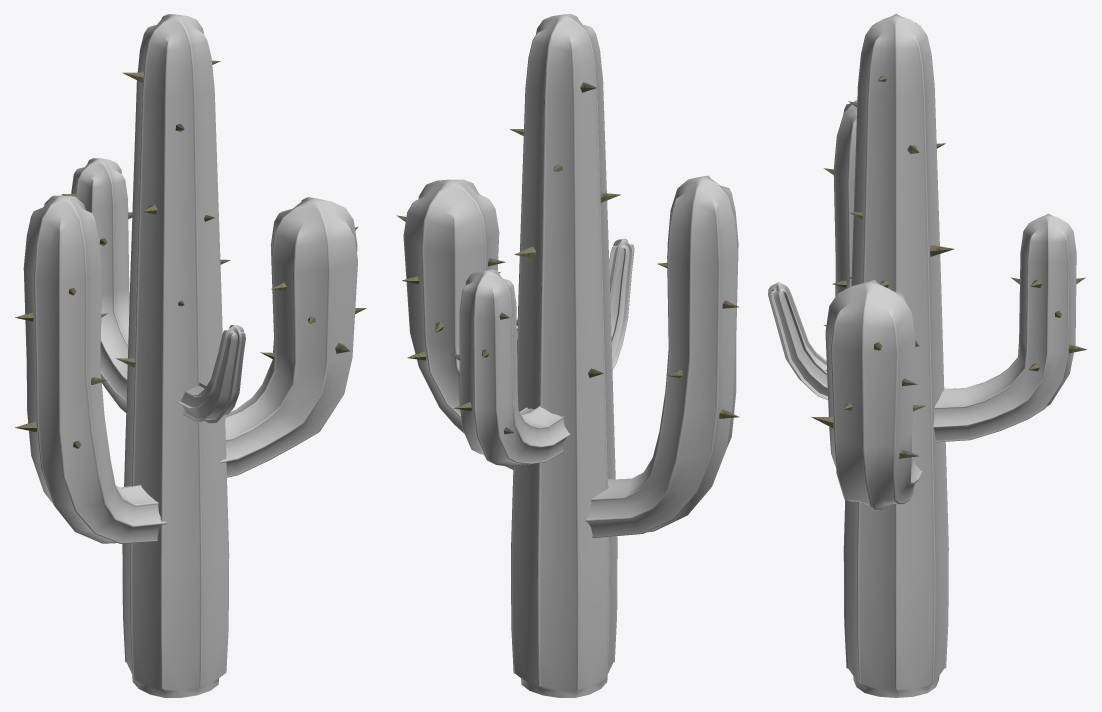
Rendered from Cactus_Saguaro_Green.fbx.
3 views of the same model, side by side, from view 1: azimuth 30°, elevation 25°; view 2: azimuth 150°, elevation 25°; view 3: azimuth 270°, elevation 25° (orthographic).
Visible parts, largest first — view 1: Trunk_Main, Stem_4, Stem_1, Stem_3, Stem_2; view 2: Trunk_Main, Stem_4, Stem_1, Stem_3, Stem_2; view 3: Trunk_Main, Stem_1, Stem_3, Stem_4, Stem_2.
Part boxes in pixels (box(x1,y1,x2,y2)): Trunk_Main: box(122, 14, 229, 697); Stem_4: box(23, 195, 167, 543); Stem_1: box(220, 197, 357, 477); Stem_3: box(71, 158, 129, 412); Stem_2: box(177, 325, 245, 423); Trunk_Main: box(511, 14, 617, 697); Stem_4: box(585, 175, 738, 537); Stem_1: box(403, 179, 513, 469); Stem_3: box(459, 269, 570, 466); Stem_2: box(609, 238, 634, 369); Trunk_Main: box(843, 14, 948, 697); Stem_1: box(825, 280, 922, 510); Stem_3: box(933, 214, 1076, 442); Stem_4: box(833, 100, 857, 296); Stem_2: box(768, 282, 827, 399).
Size of the model in its own units: 4.79 by 8.83 by 3.86.
